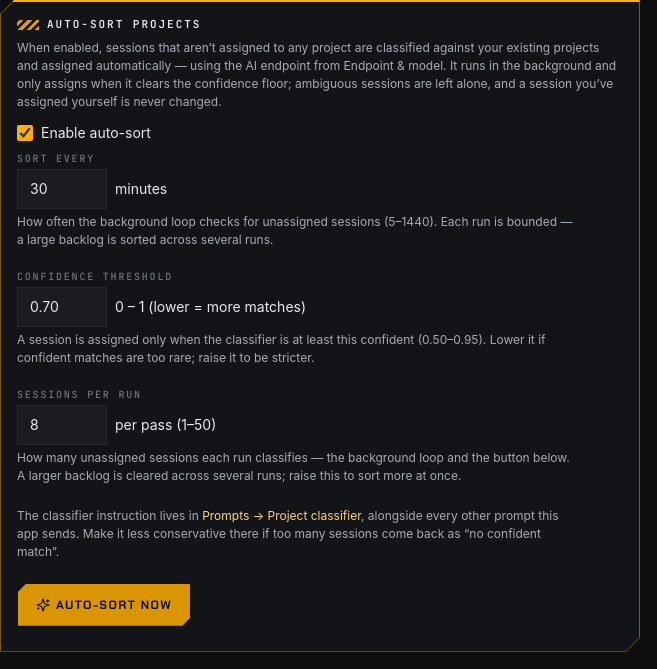
running auto-sort reports how many sessions were assigned (#424)
This screenshot has width=657, height=669.
Click the button "Auto-sort now": click(104, 605) [17, 583, 191, 627]
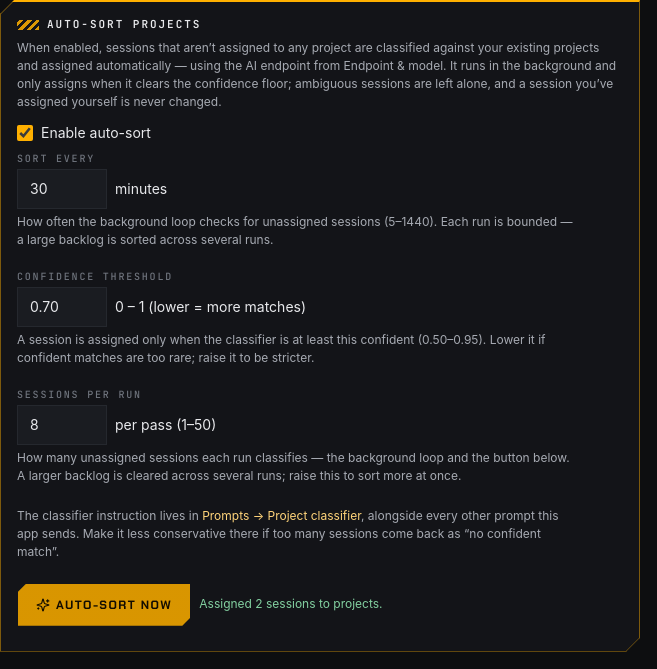
Now the text "Assigned 2 sessions to projects." is shown, box [199, 596, 382, 613]
